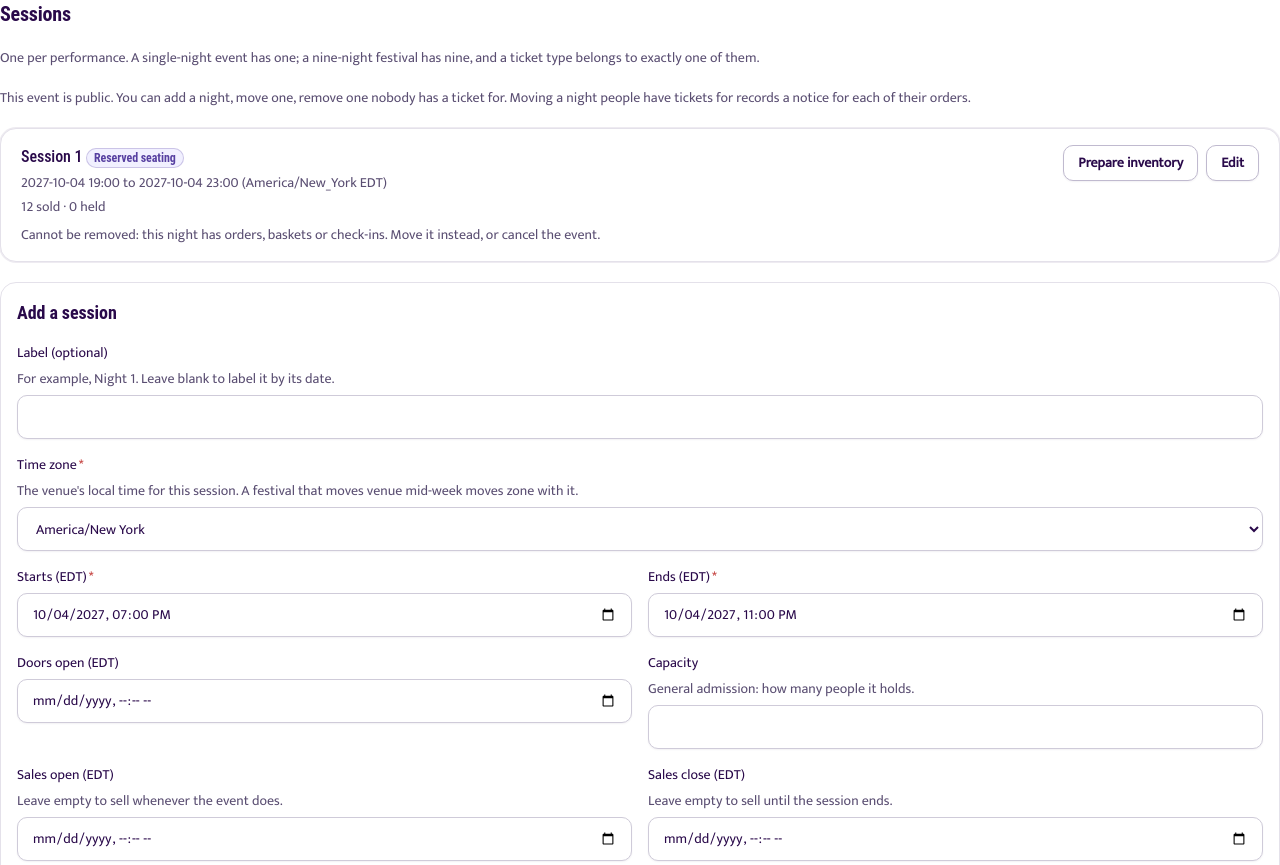
editing a session › keeps the seating map of a live night whose seats are sold
Click the button with aria-label "Edit session 1": (1233, 163) x1=1206 y1=145 x2=1259 y2=181
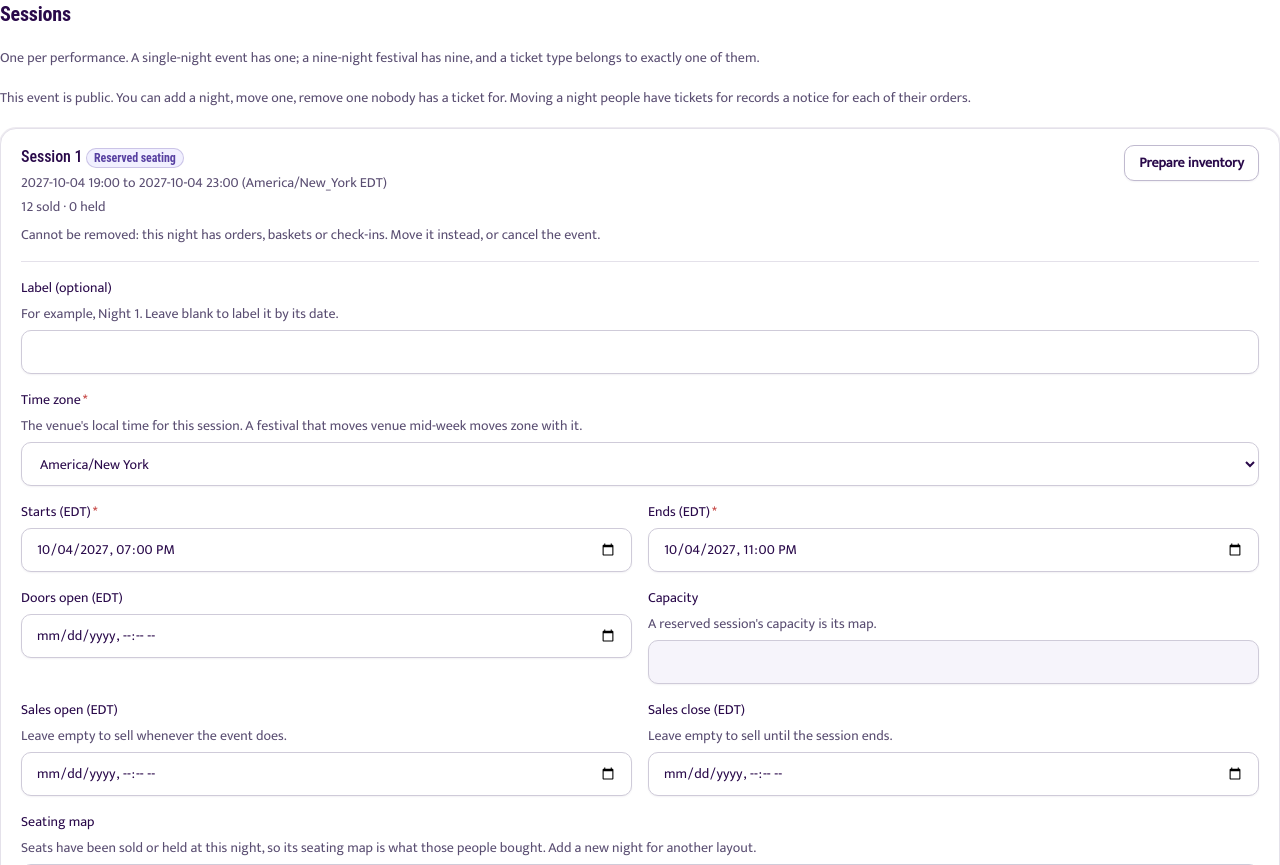
Check: the text "Seats have been sold or held at this night, so its seating map is what" is shown, box x1=21 y1=836 x2=756 y2=859
